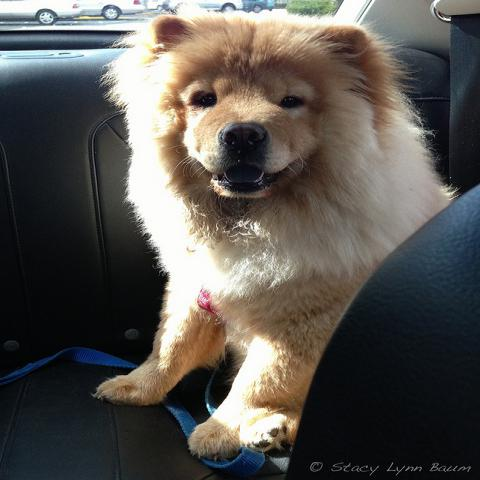car: (0, 0, 85, 29), (67, 0, 149, 21), (166, 1, 244, 12), (242, 0, 266, 13), (140, 1, 164, 10)
